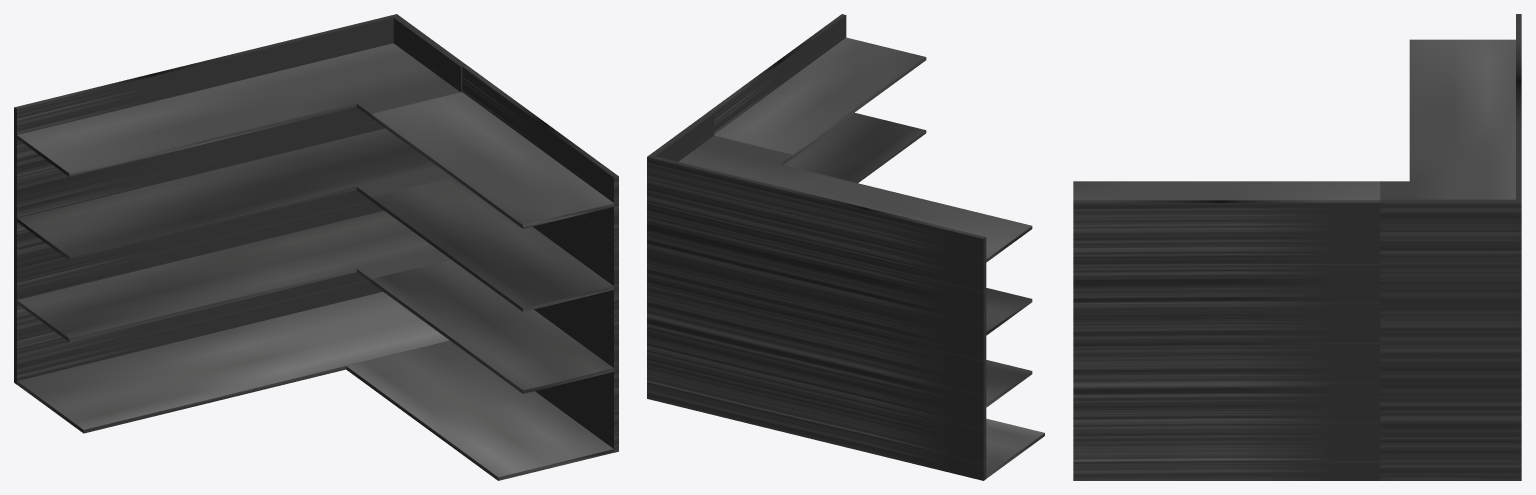
The model's file is furniture_4.fbx.
3 views of the same model, side by side, from view 1: azimuth 30°, elevation 25°; view 2: azimuth 150°, elevation 25°; view 3: azimuth 270°, elevation 25° (orthographic). The views are drawn at different scales.
Visible parts, largest first — view 1: Cube.001; view 2: Cube.001; view 3: Cube.001.
Part boxes in pixels (x1,y1,x2,y2): Cube.001: (14,14,618,480); Cube.001: (647,14,1044,480); Cube.001: (1073,14,1521,480).
Size of the model in its own units: 291 by 200 by 292.
